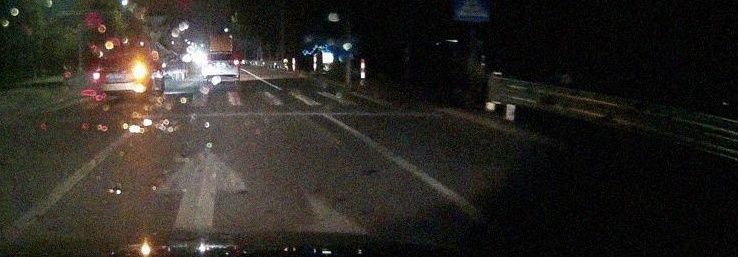L_light: (93, 72, 101, 81), (206, 62, 212, 67)
R_light: (134, 67, 146, 76), (234, 60, 239, 65)
T_light: (120, 56, 127, 59), (219, 54, 223, 55)
night-no: (203, 52, 240, 85)
night-right: (92, 51, 148, 101)
